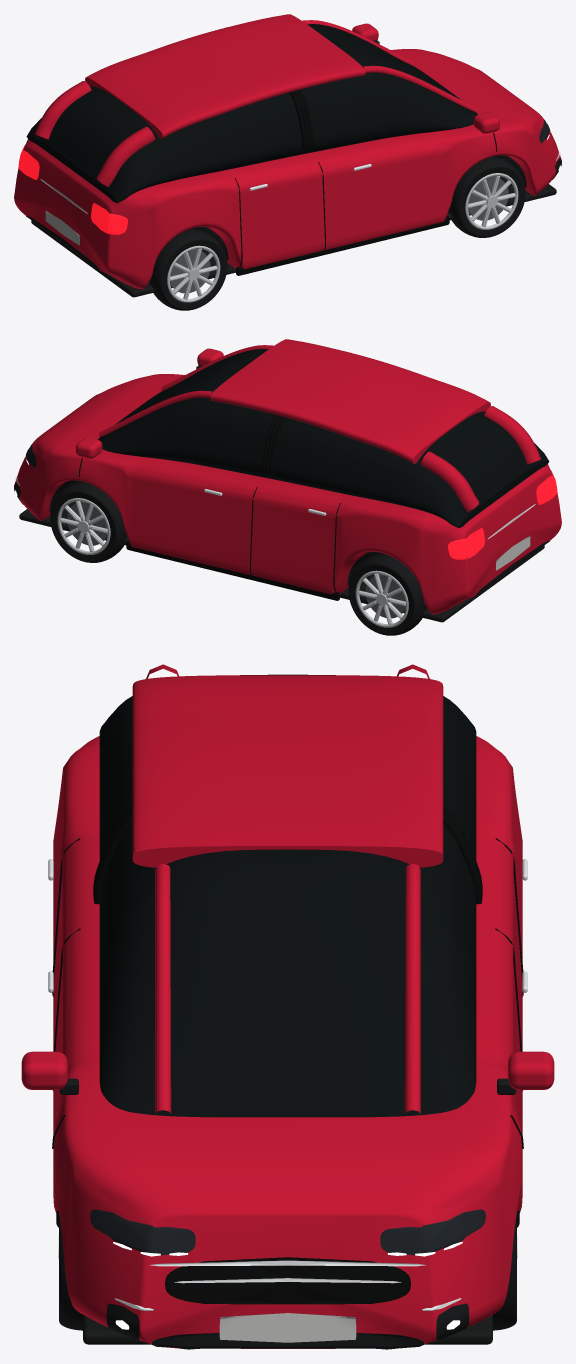
Rendered from maruti-baleno.glb.
3 views of the same model, one above another, from view 1: azimuth 30°, elevation 25°; view 2: azimuth 150°, elevation 25°; view 3: azimuth 270°, elevation 25° (orthographic). The views are drawn at different scales.
Visible parts, largest first — view 1: Body, Glasshouse, Roof, Tyre (×2), Pillar (×4), Trim, Disc (×2), Rim (×2), Taillamp (×2), GlossBlack, Paint, Plate; view 2: Body, Glasshouse, Roof, Tyre (×2), Pillar (×4), Trim, Disc (×2), Rim (×2), Taillamp (×2), GlossBlack, Paint, Plate; view 3: Body, Glasshouse, Roof, GlossBlack, Pillar (×2), Trim (×2), Headlamp (×2), Plate, Paint (×2), Tyre (×2), Chrome.
Part boxes in pixels (x1=…): Body: x1=14, y1=49, x2=561, y2=289; Glasshouse: x1=26, y1=24, x2=477, y2=203; Roof: x1=85, y1=14, x2=365, y2=138; Tyre (×2): x1=149, y1=156, x2=525, y2=310; Pillar (×4): x1=35, y1=20, x2=476, y2=186; Trim: x1=31, y1=176, x2=556, y2=297; Disc (×2): x1=170, y1=176, x2=508, y2=293; Rim (×2): x1=167, y1=173, x2=518, y2=302; Taillamp (×2): x1=18, y1=145, x2=127, y2=234; GlossBlack: x1=236, y1=216, x2=449, y2=275; Paint: x1=473, y1=112, x2=499, y2=133; Plate: x1=45, y1=211, x2=79, y2=245; Body: x1=14, y1=374, x2=561, y2=614; Glasshouse: x1=98, y1=349, x2=549, y2=528; Roof: x1=210, y1=339, x2=490, y2=463; Tyre (×2): x1=50, y1=481, x2=426, y2=635; Pillar (×4): x1=99, y1=345, x2=540, y2=511; Trim: x1=19, y1=501, x2=544, y2=622; Disc (×2): x1=67, y1=501, x2=405, y2=618; Rim (×2): x1=57, y1=498, x2=408, y2=627; Taillamp (×2): x1=448, y1=470, x2=557, y2=559; GlossBlack: x1=126, y1=541, x2=339, y2=600; Paint: x1=76, y1=437, x2=102, y2=458; Plate: x1=496, y1=536, x2=530, y2=570; Body: x1=53, y1=736, x2=522, y2=1348; Glasshouse: x1=99, y1=674, x2=476, y2=1117; Roof: x1=132, y1=675, x2=443, y2=867; GlossBlack: x1=165, y1=1257, x2=410, y2=1304; Pillar (×2): x1=155, y1=863, x2=420, y2=1113; Trim (×2): x1=83, y1=1314, x2=492, y2=1349; Headlamp (×2): x1=106, y1=1217, x2=469, y2=1255; Plate: x1=219, y1=1313, x2=356, y2=1342; Paint (×2): x1=21, y1=1051, x2=554, y2=1089; Tyre (×2): x1=59, y1=1213, x2=516, y2=1330; Chrome: x1=149, y1=1260, x2=426, y2=1266.
Size of the model in its own units: 3.93 by 1.51 by 1.95.
